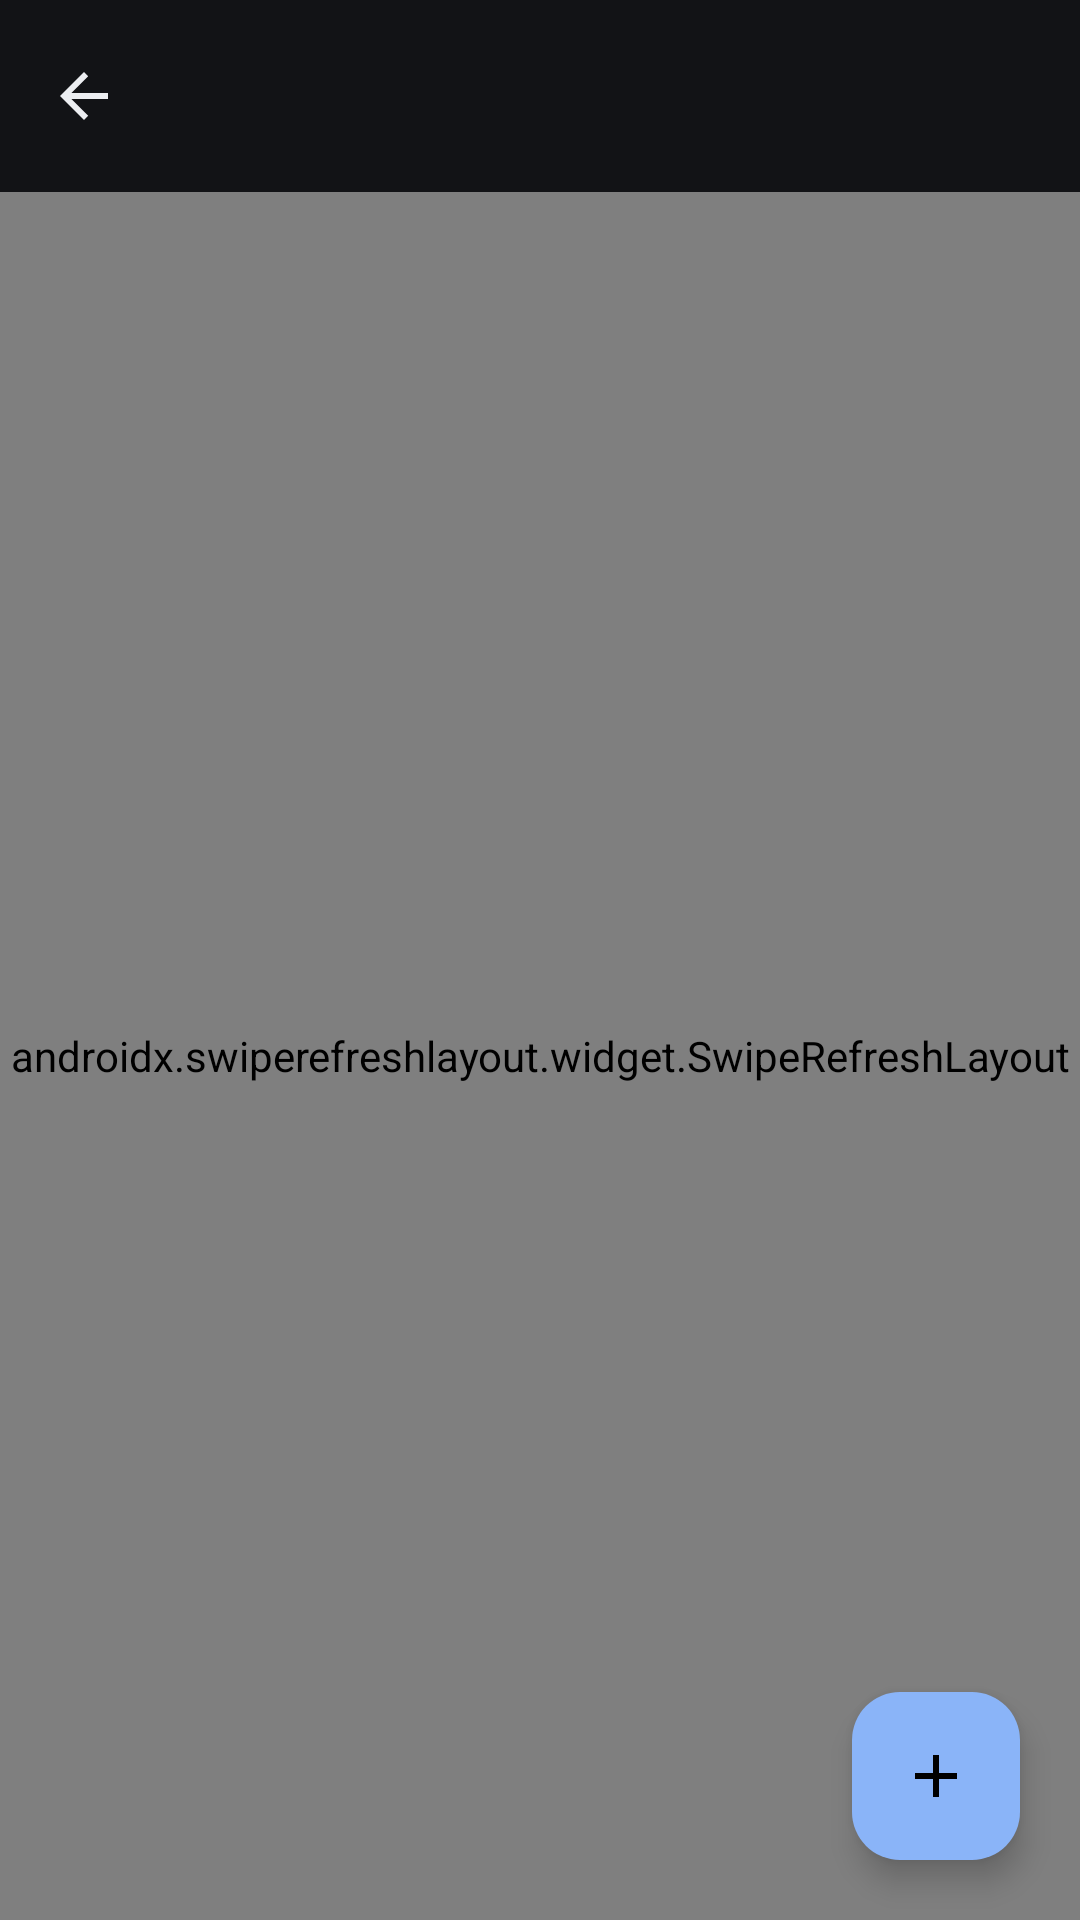

Locate icon controls on the screen. Image size 1080w x 1920h, boxes as [x1=x1, y1=y1, x2=x2, y2=y2].
上传到此相册: [x1=852, y1=1692, x2=1020, y2=1860]
